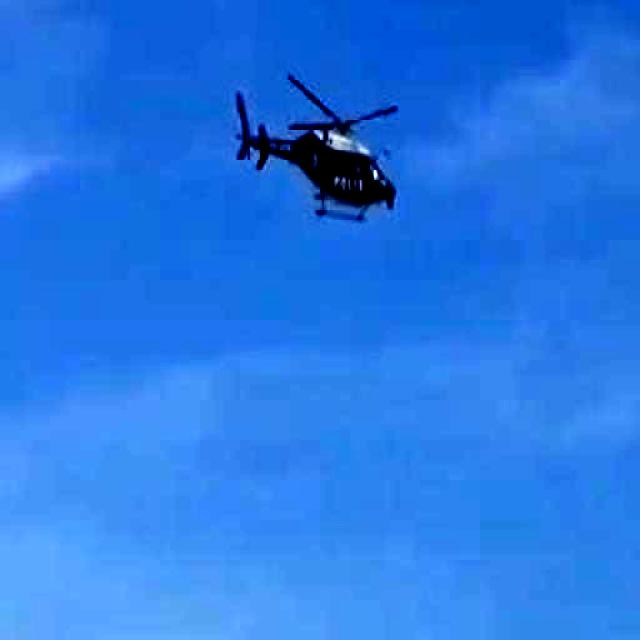drone: (208, 21, 429, 298)
